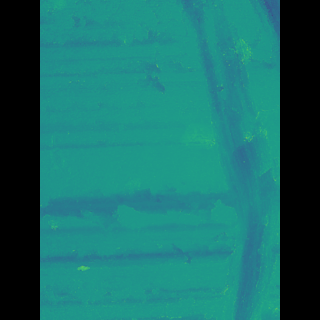Loch: (164, 0, 251, 320)
